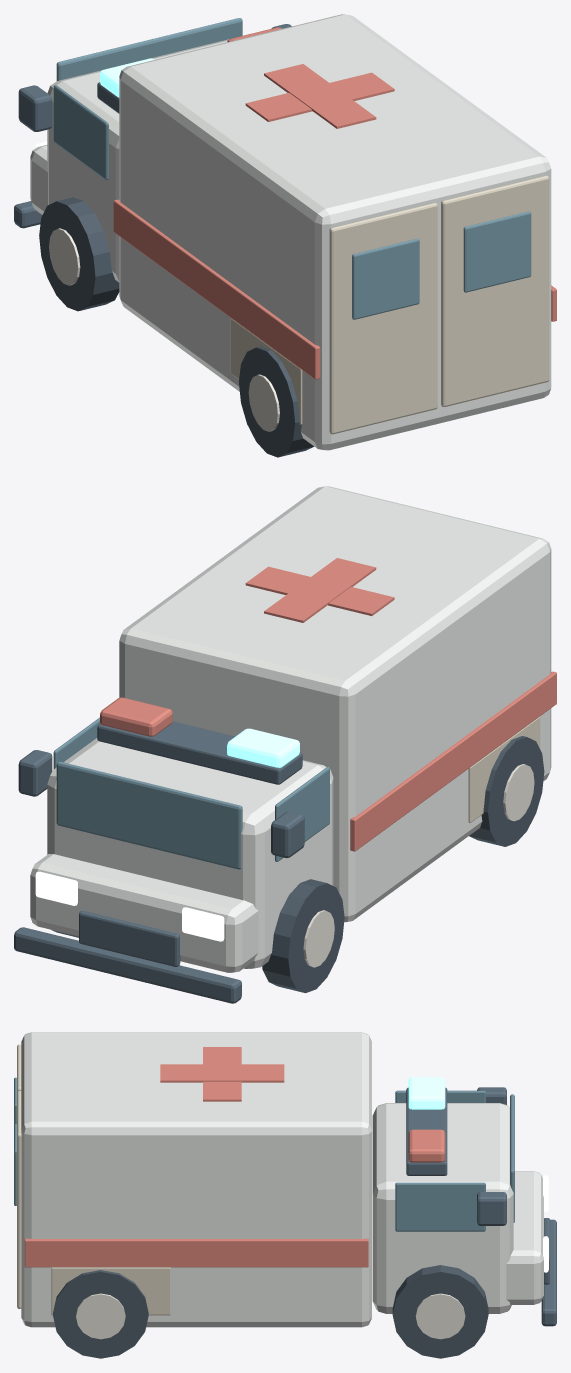
File: unit-07-ambulance.glb
3 views of the same model, one above another, from view 1: azimuth 30°, elevation 25°; view 2: azimuth 150°, elevation 25°; view 3: azimuth 270°, elevation 25° (orthographic). The views are drawn at different scales.
Parts seen in each view (by area): view 1: unit-07-ambulance_EMS porcelain, unit-07-ambulance_Warm limestone, unit-07-ambulance_Blue glass, unit-07-ambulance_Emergency coral, unit-07-ambulance_Tire rubber, unit-07-ambulance_Pale concrete, unit-07-ambulance_Charcoal steel, unit-07-ambulance_Blue emergency lens; view 2: unit-07-ambulance_EMS porcelain, unit-07-ambulance_Charcoal steel, unit-07-ambulance_Blue glass, unit-07-ambulance_Emergency coral, unit-07-ambulance_Tire rubber, unit-07-ambulance_Pale concrete, unit-07-ambulance_Headlamps, unit-07-ambulance_Blue emergency lens, unit-07-ambulance_Warm limestone; view 3: unit-07-ambulance_EMS porcelain, unit-07-ambulance_Emergency coral, unit-07-ambulance_Tire rubber, unit-07-ambulance_Blue glass, unit-07-ambulance_Charcoal steel, unit-07-ambulance_Warm limestone, unit-07-ambulance_Pale concrete, unit-07-ambulance_Blue emergency lens, unit-07-ambulance_Headlamps.
Part boxes in pixels (x1,y1,x2,y2): unit-07-ambulance_EMS porcelain: [30, 14, 551, 450]; unit-07-ambulance_Warm limestone: [230, 175, 549, 434]; unit-07-ambulance_Blue glass: [53, 18, 531, 319]; unit-07-ambulance_Emergency coral: [113, 27, 556, 379]; unit-07-ambulance_Tire rubber: [39, 197, 313, 457]; unit-07-ambulance_Pale concrete: [49, 228, 279, 431]; unit-07-ambulance_Charcoal steel: [14, 24, 291, 228]; unit-07-ambulance_Blue emergency lens: [100, 58, 154, 97]; unit-07-ambulance_EMS porcelain: [30, 486, 551, 972]; unit-07-ambulance_Charcoal steel: [14, 721, 304, 1003]; unit-07-ambulance_Blue glass: [53, 717, 329, 869]; unit-07-ambulance_Emergency coral: [100, 558, 556, 851]; unit-07-ambulance_Tire rubber: [52, 736, 544, 993]; unit-07-ambulance_Pale concrete: [303, 764, 534, 967]; unit-07-ambulance_Headlamps: [35, 871, 224, 941]; unit-07-ambulance_Blue emergency lens: [227, 728, 299, 767]; unit-07-ambulance_Warm limestone: [468, 716, 540, 822]; unit-07-ambulance_EMS porcelain: [21, 1032, 543, 1327]; unit-07-ambulance_Emergency coral: [24, 1047, 445, 1267]; unit-07-ambulance_Tire rubber: [53, 1265, 488, 1358]; unit-07-ambulance_Blue glass: [14, 1077, 514, 1231]; unit-07-ambulance_Charcoal steel: [406, 1087, 556, 1326]; unit-07-ambulance_Warm limestone: [17, 1044, 170, 1315]; unit-07-ambulance_Pale concrete: [76, 1293, 465, 1339]; unit-07-ambulance_Blue emergency lens: [408, 1077, 445, 1109]; unit-07-ambulance_Headlamps: [543, 1175, 548, 1272].
Bounding box in the file's own units: 3.12 × 3.02 × 6.35.
